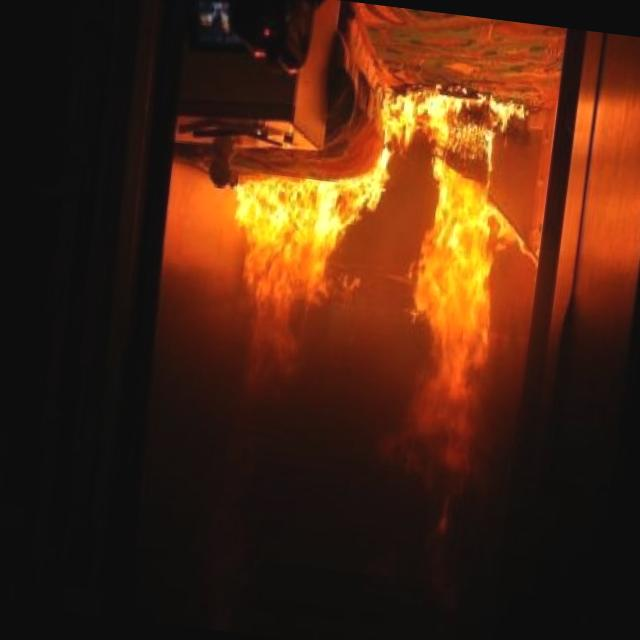fire: (137, 20, 568, 507)
